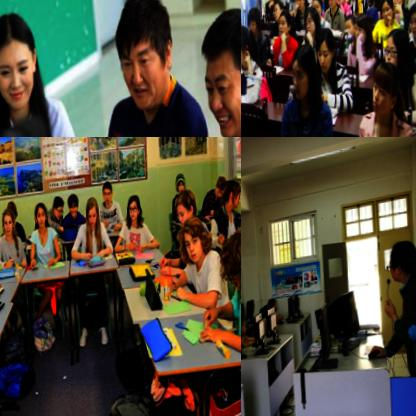head: (111, 0, 180, 120), (199, 12, 241, 137), (0, 8, 39, 116), (285, 46, 317, 110), (368, 66, 400, 125), (219, 228, 241, 310), (383, 35, 412, 89), (178, 221, 207, 272), (385, 246, 416, 289), (310, 33, 336, 84), (171, 193, 196, 236), (219, 183, 241, 219), (352, 17, 371, 54), (82, 198, 100, 236), (241, 24, 254, 73), (302, 10, 320, 45), (378, 0, 396, 34), (245, 9, 262, 44), (124, 197, 142, 229), (274, 12, 290, 44), (0, 210, 15, 241), (31, 205, 46, 234), (64, 196, 79, 223), (99, 185, 113, 213), (212, 182, 226, 208), (4, 202, 18, 227), (407, 9, 416, 47), (342, 20, 355, 46), (308, 1, 323, 23), (172, 178, 185, 203), (387, 0, 403, 20), (271, 2, 284, 26), (51, 199, 62, 225), (258, 308, 272, 326), (293, 0, 306, 16), (325, 0, 336, 16), (266, 301, 276, 315), (241, 321, 247, 341), (334, 0, 344, 11), (264, 0, 275, 7), (309, 0, 320, 6), (289, 0, 298, 5)
